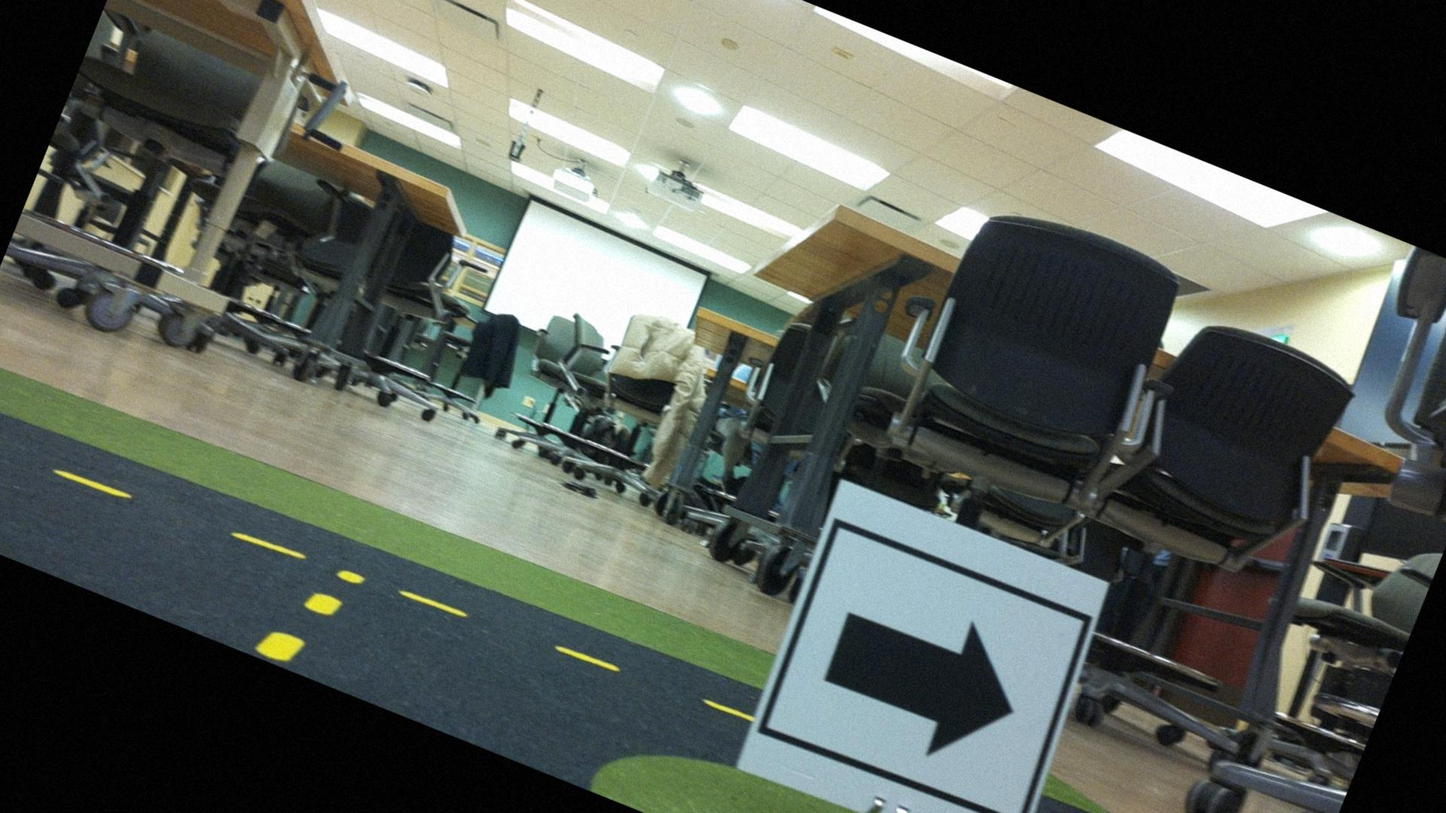turnleft: (740, 485, 1103, 812)
yellowline: (0, 392, 747, 748), (256, 576, 339, 673)
